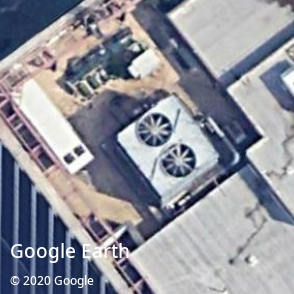Vent: (137, 113, 173, 147), (162, 143, 196, 177)
